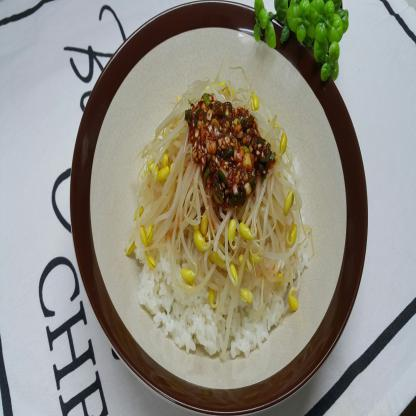bean sprouts: (138, 116, 186, 232), (204, 221, 283, 256)
